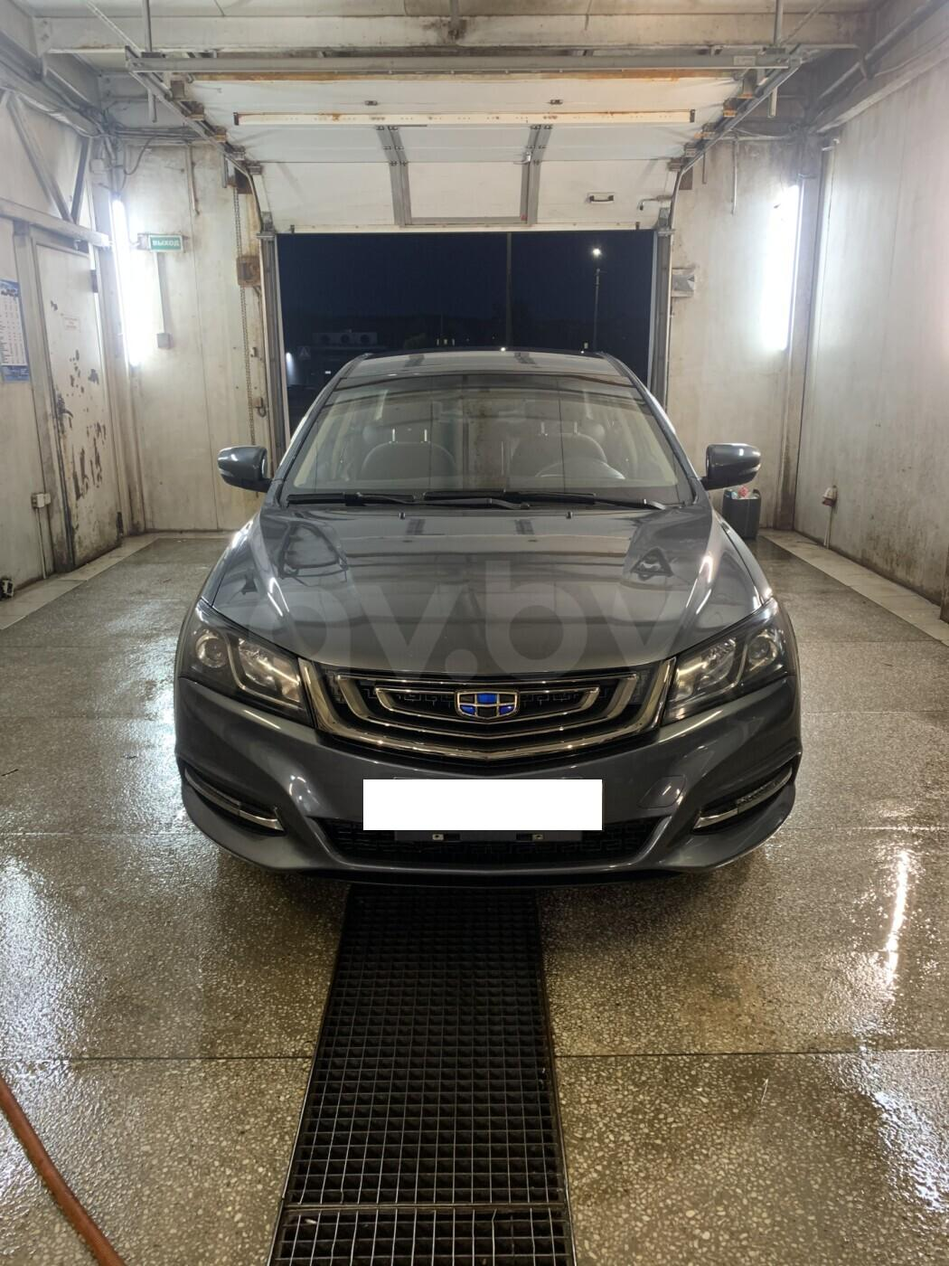Emgrand_2019-2021: (176, 349, 800, 874)
